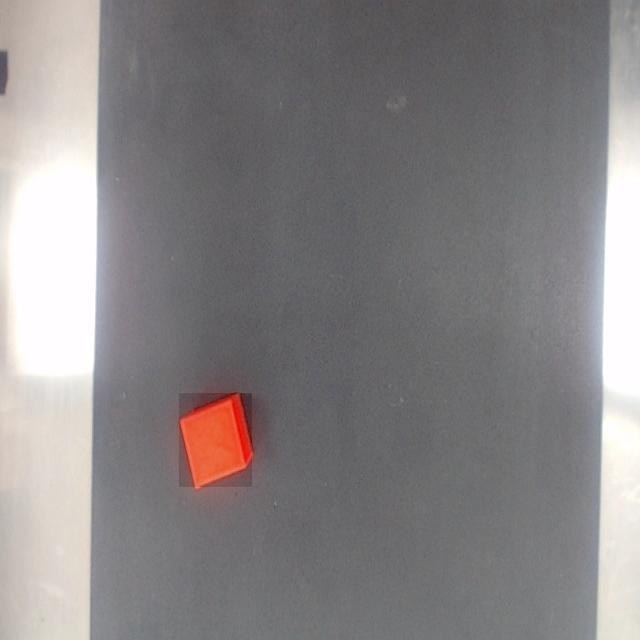Rojo: (179, 393, 252, 487)
